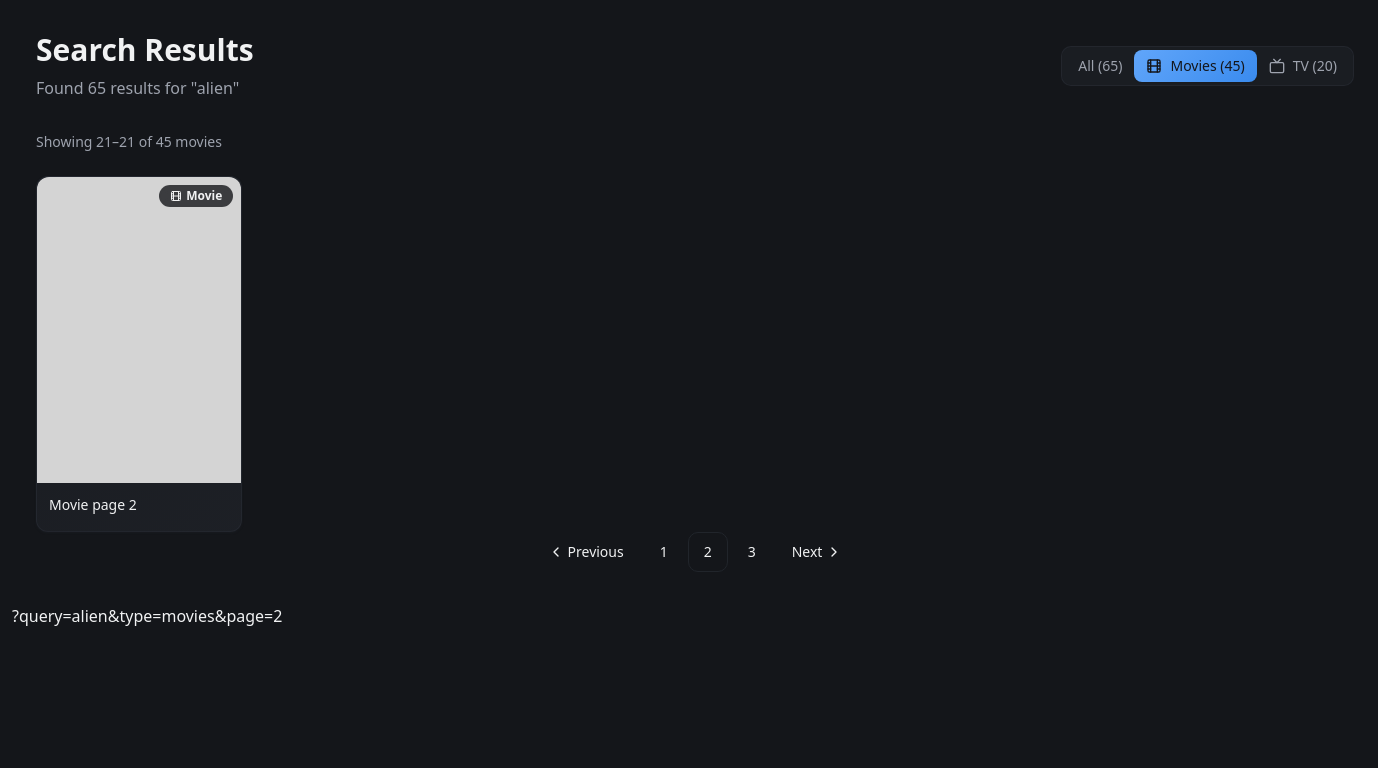
Scenario: Discover pagination › resets the page when switching type and restores page/type from the URL
The image size is (1378, 768).
Check: the heading "Movie page 2" is shown, box top-left (49, 496), bottom-right (137, 514)
Press the mouse on the tab "TV (20)" at (1303, 66), box top-left (1257, 50), bottom-right (1349, 82)
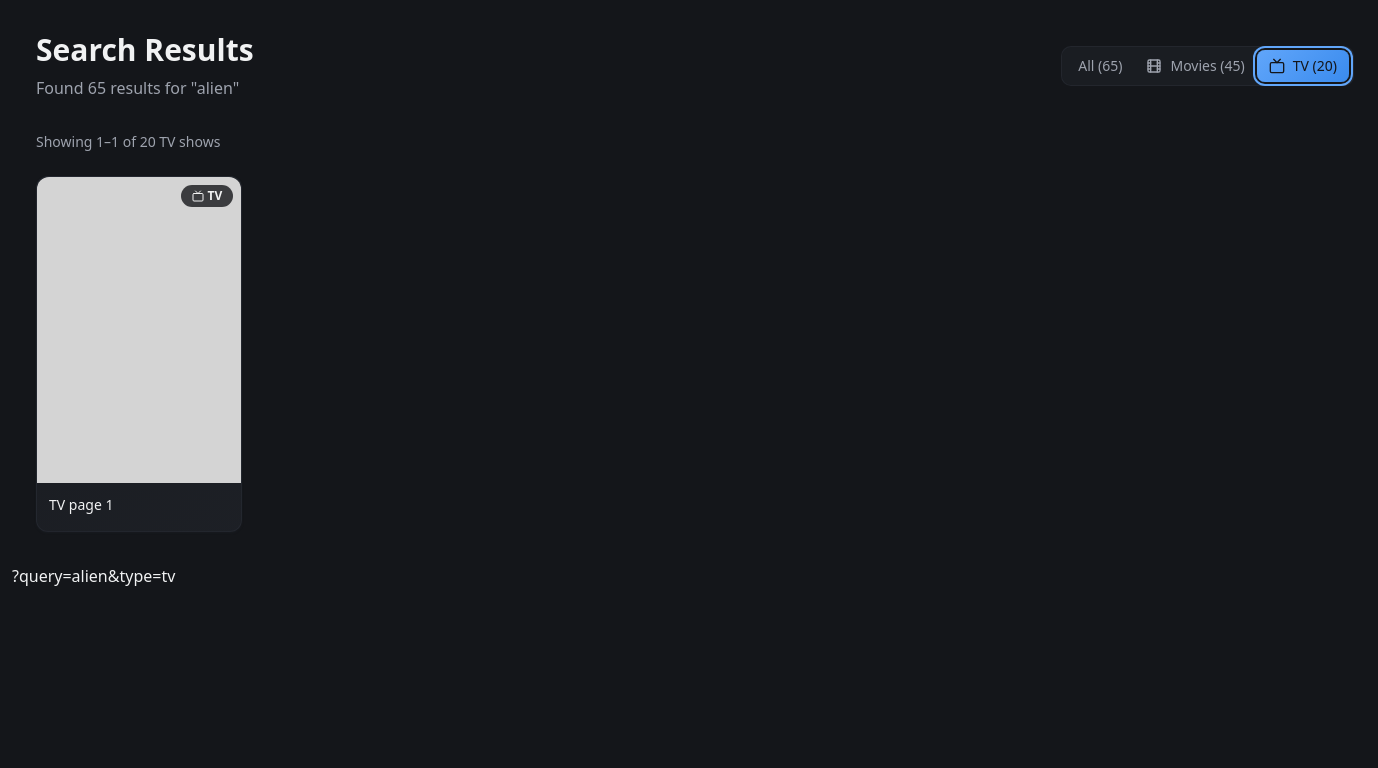
Check: the text with test id "location" shows "type=tv", box top-left (12, 566), bottom-right (175, 588)
Check: the text with test id "location" no longer shows "page=", box top-left (12, 566), bottom-right (175, 588)
Check: the heading "TV page 1" is shown, box top-left (49, 496), bottom-right (114, 514)
